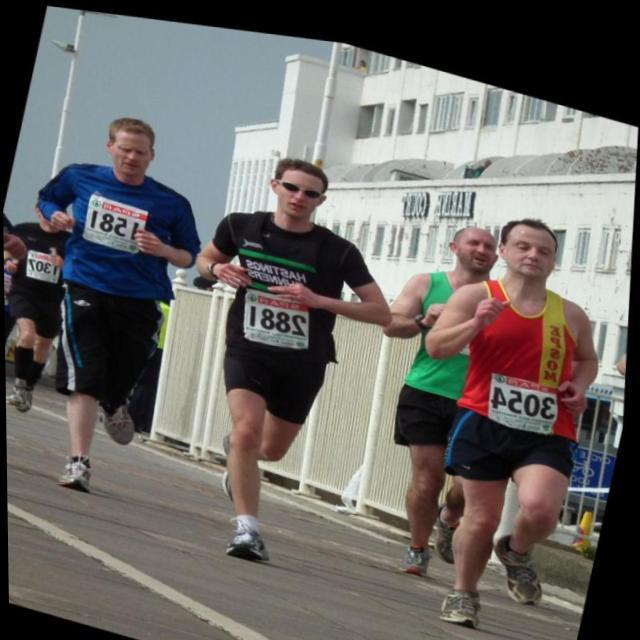dorsal: (230, 266, 330, 359), (477, 346, 574, 431), (72, 183, 162, 260), (18, 240, 74, 290)
